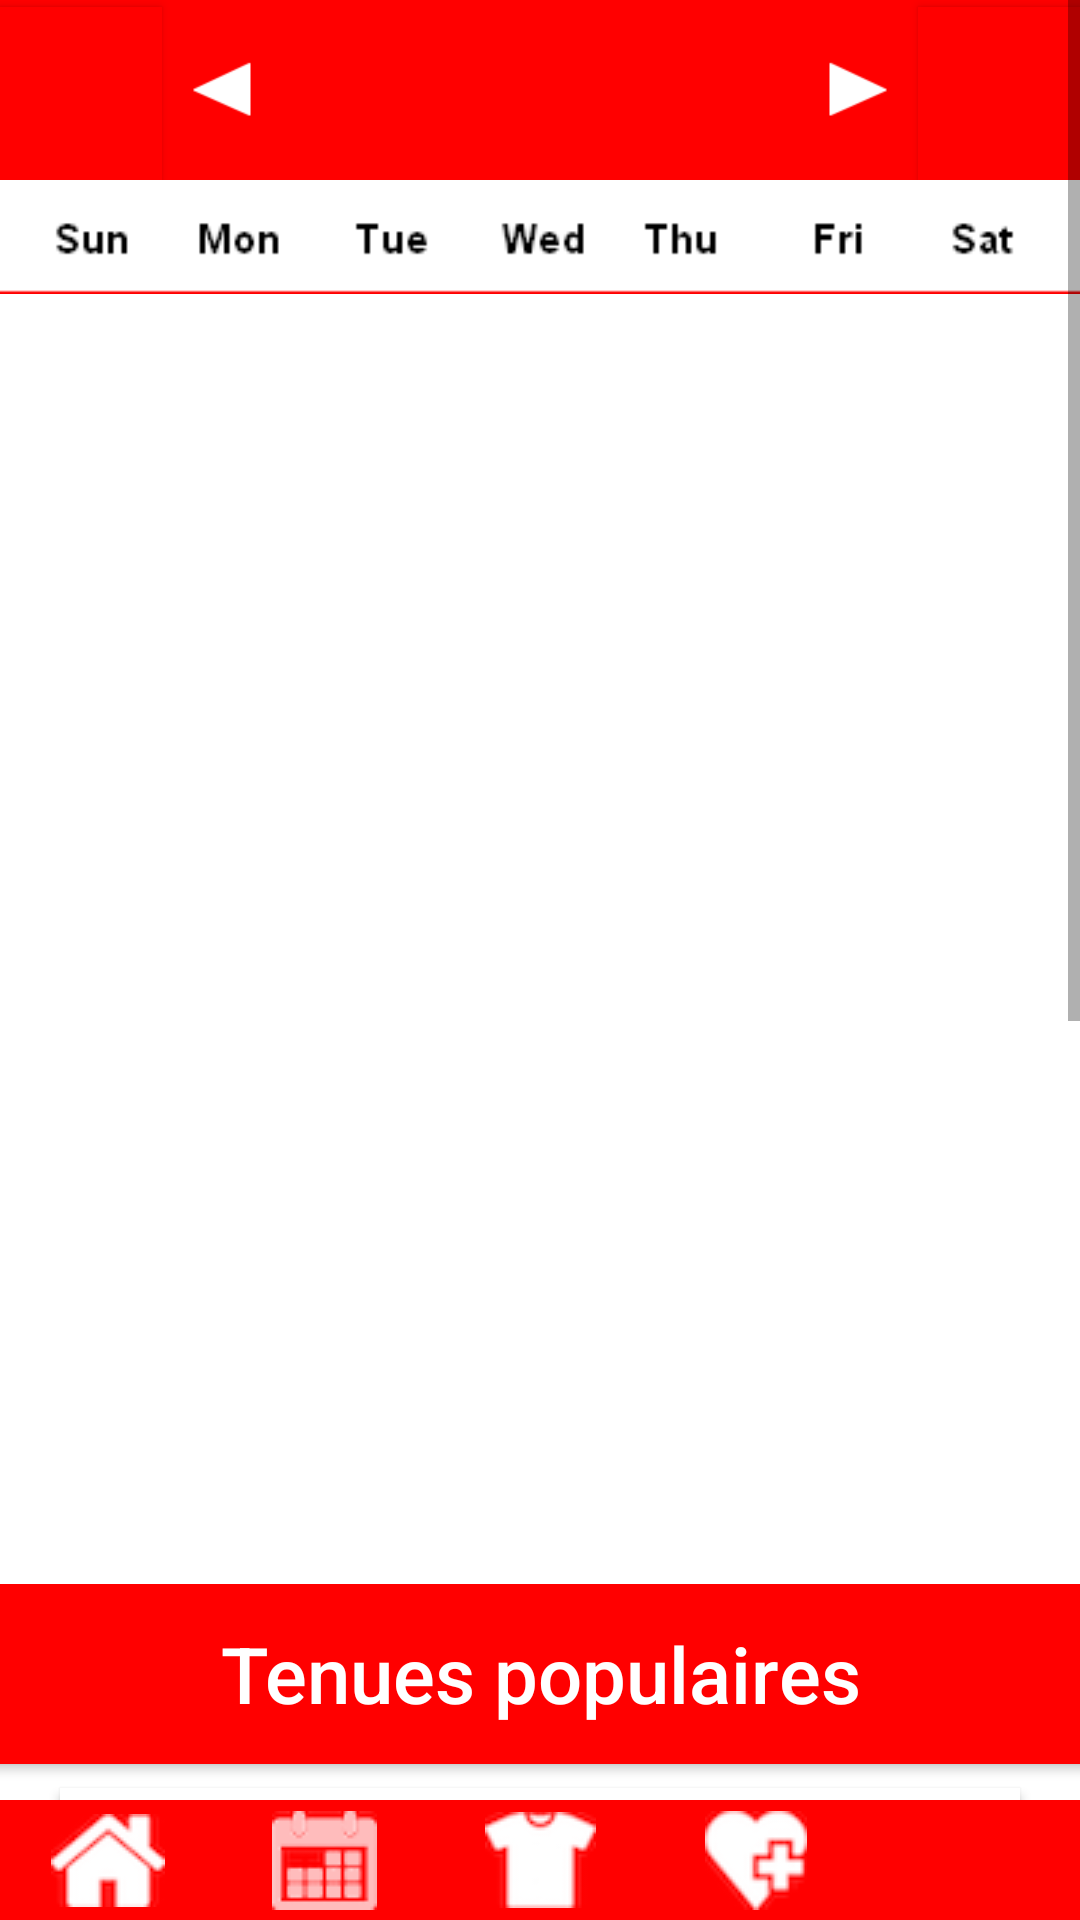

Named icons in this screenshot (1080×1920) and their centers, (x=x, y=y):
calendar: (x=324, y=1860)
home: (x=108, y=1860)
tshirt: (x=540, y=1860)
